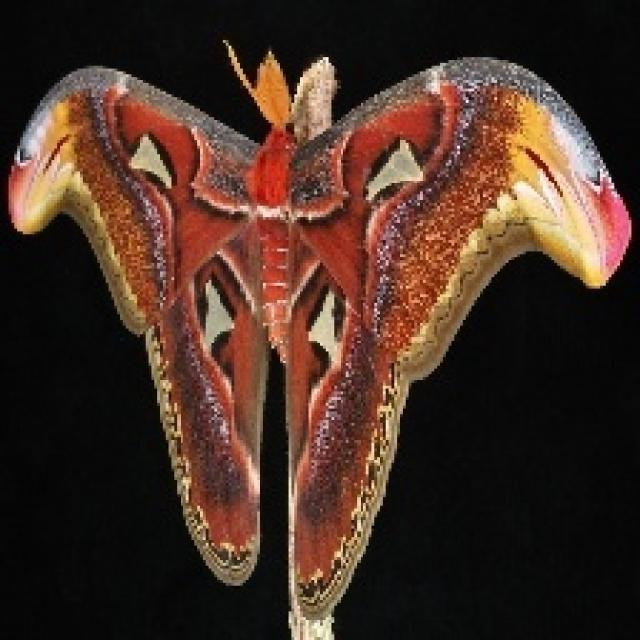butterfly: (3, 37, 631, 637)
